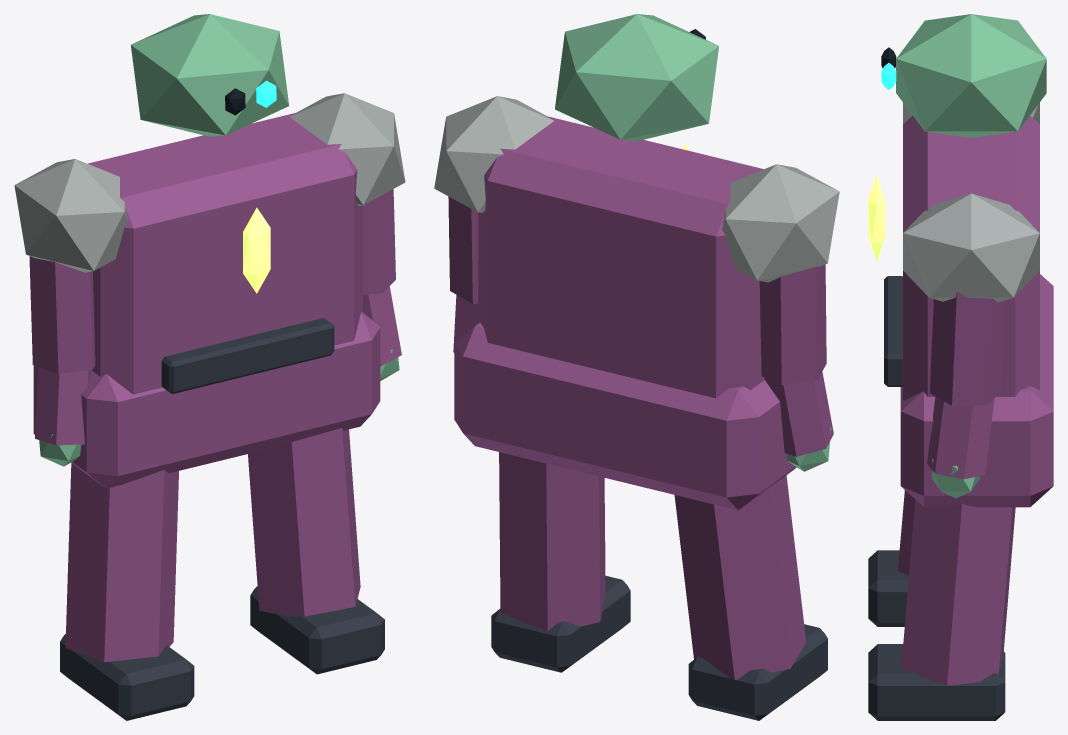
Rendered from npcs_003_seed11.glb.
The picture shows the model from 3 angles, left to right: view 1: azimuth 30°, elevation 25°; view 2: azimuth 150°, elevation 25°; view 3: azimuth 270°, elevation 25°; orthographic projection. The views are drawn at different scales.
Visible parts, largest first — view 1: npcs_003_seed11; view 2: npcs_003_seed11; view 3: npcs_003_seed11.
Boxes of the visible parts, box(x1,y1,x2,y2) form: npcs_003_seed11: box(14, 14, 405, 720); npcs_003_seed11: box(434, 14, 839, 720); npcs_003_seed11: box(868, 14, 1053, 720).
Size of the model in its own units: 1.11 by 1.85 by 0.481.
